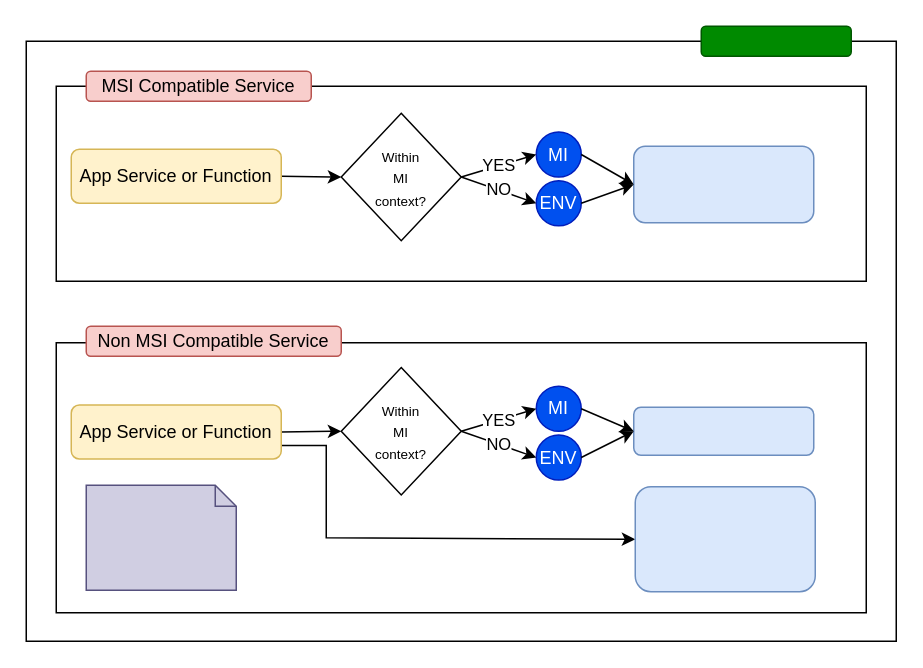
Some shapes in this 923 by 668 pixel diagram are drawn without their labels. Here are the shapes that lost their labels. From the top down, the centre of each, then its label:
At point (775, 40): "Proposal".
At point (723, 184): "Blob Storage, KeyVault or ServiceBus".
At point (723, 430): "KeyVault".
At point (160, 537): "Call to keyvault is to retrieve service connection string".
At point (724, 538): "Cosmos, Elastic Search, or non MSI compatible service".
